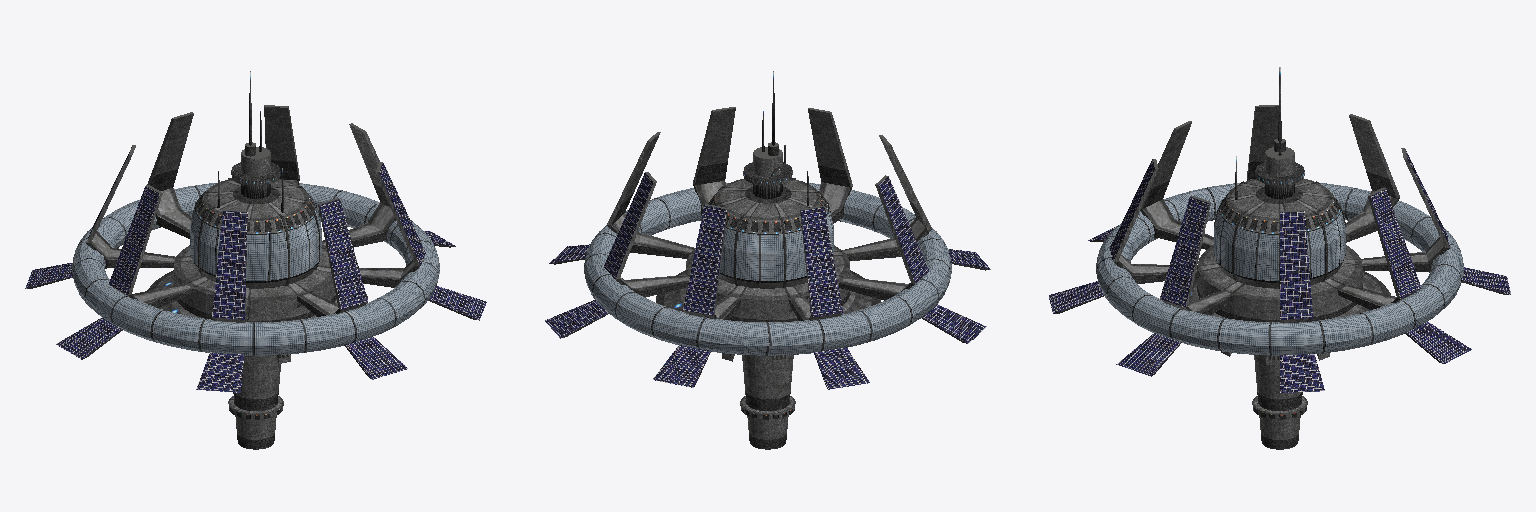
3 views of the same model, side by side, from view 1: azimuth 30°, elevation 25°; view 2: azimuth 150°, elevation 25°; view 3: azimuth 270°, elevation 25° (orthographic).
Visible parts, largest first — view 1: Cube.002_Cube.004; view 2: Cube.002_Cube.004; view 3: Cube.002_Cube.004.
Part boxes in pixels (left/top/right/bottom): Cube.002_Cube.004: left=25, top=71, right=486, bottom=449; Cube.002_Cube.004: left=545, top=71, right=990, bottom=449; Cube.002_Cube.004: left=1049, top=67, right=1510, bottom=449.
Size of the model in its own units: 16.7 by 14.8 by 16.7.
Materials: 3 (2 with a texture image).